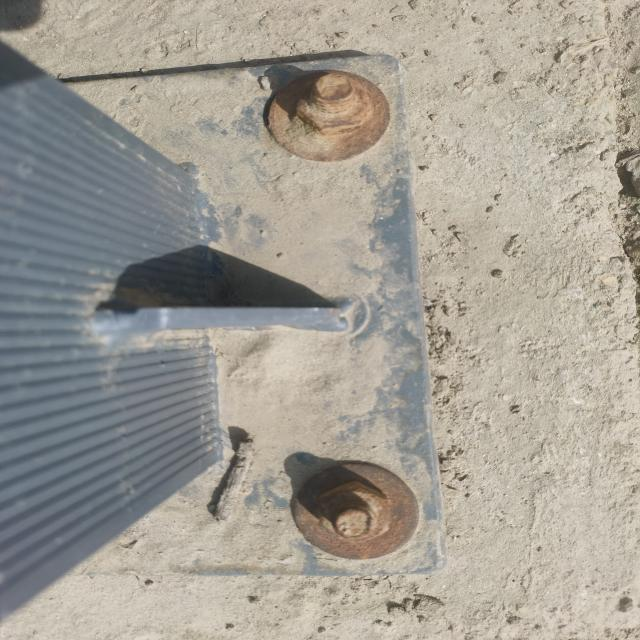bolt nut: (288, 73, 376, 137), (314, 479, 394, 547)
